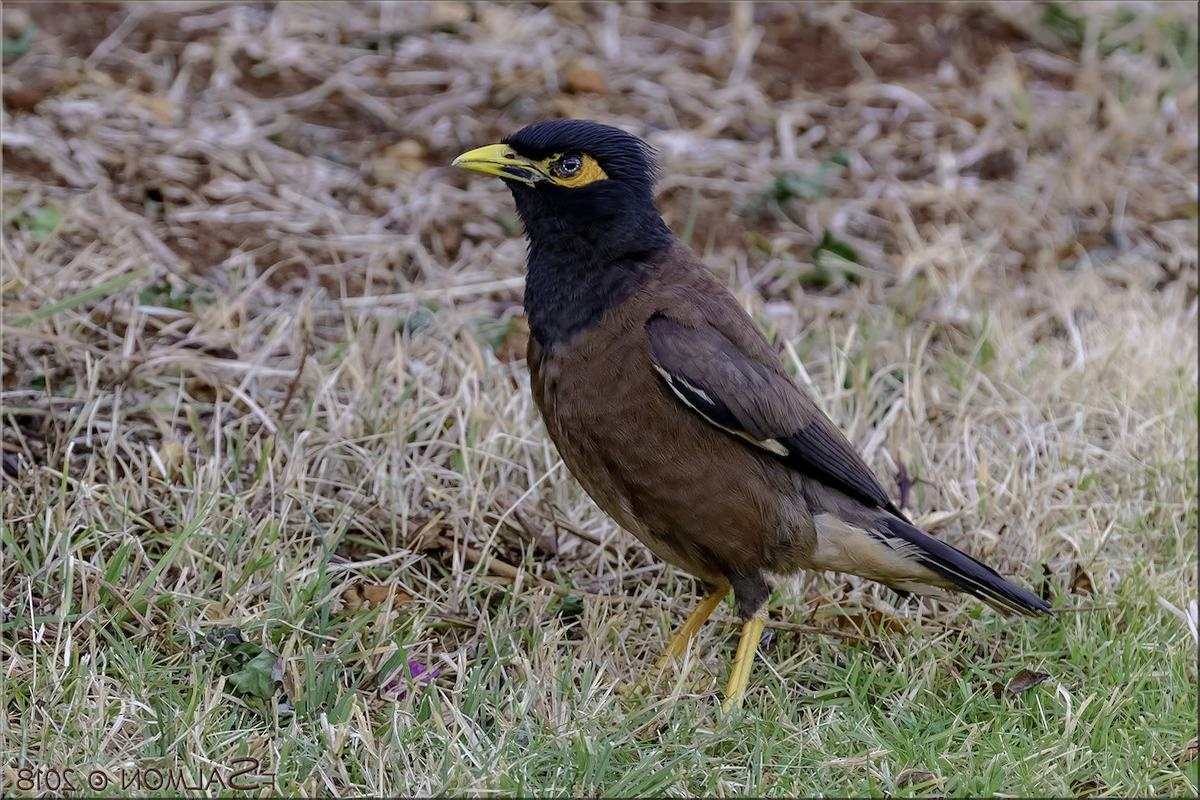myna: (439, 86, 1003, 680)
